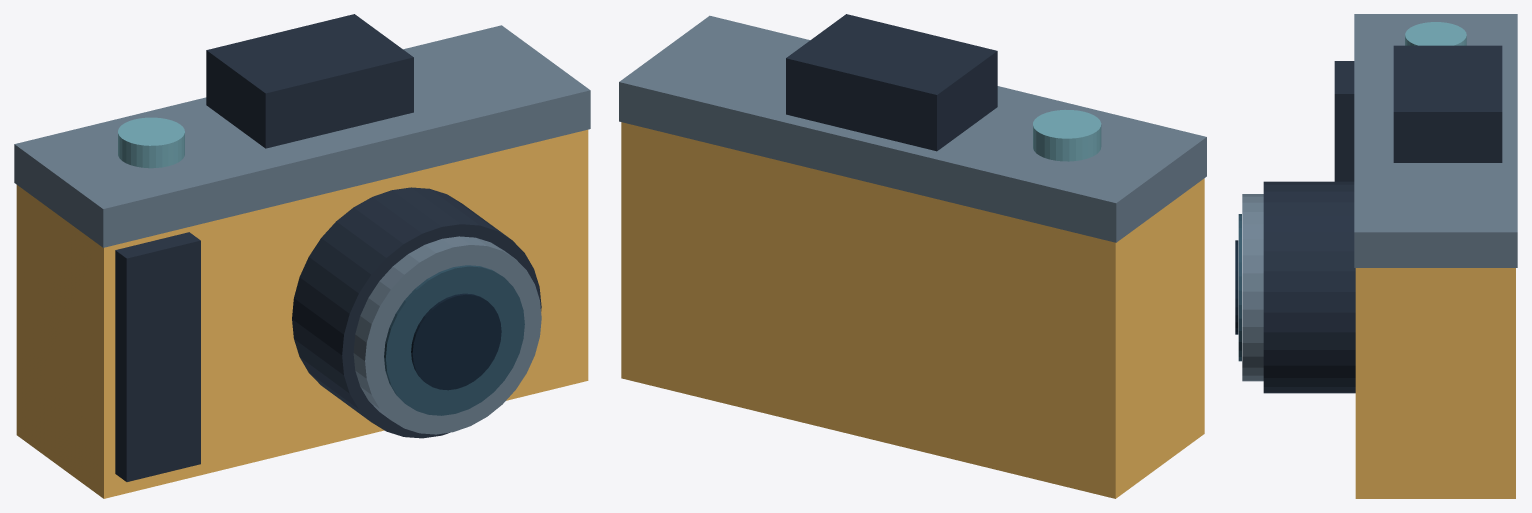
The model's file is camera.glb.
3 views of the same model, side by side, from view 1: azimuth 30°, elevation 25°; view 2: azimuth 150°, elevation 25°; view 3: azimuth 270°, elevation 25° (orthographic). The views are drawn at different scales.
Visible parts, largest first — view 1: body, silver top, viewfinder, grip, lens barrel, lens ring, lens face, inner glass, shutter; view 2: body, silver top, viewfinder, shutter; view 3: body, silver top, lens barrel, viewfinder, lens ring, grip, shutter, lens face, inner glass.
Part boxes in pixels (x1,y1,x2,y2): body: [16, 129, 588, 498]; silver top: [14, 25, 590, 247]; viewfinder: [206, 14, 413, 148]; grip: [115, 232, 200, 481]; lens barrel: [292, 187, 541, 438]; lens ring: [353, 236, 541, 434]; lens face: [384, 265, 524, 415]; inner glass: [411, 293, 501, 390]; shutter: [118, 117, 184, 168]; body: [621, 122, 1204, 498]; silver top: [619, 15, 1206, 242]; viewfinder: [786, 14, 997, 151]; shutter: [1033, 109, 1101, 161]; body: [1355, 268, 1515, 498]; silver top: [1354, 14, 1517, 267]; lens barrel: [1263, 181, 1355, 393]; viewfinder: [1393, 45, 1502, 162]; lens ring: [1242, 194, 1263, 381]; grip: [1334, 61, 1354, 181]; shutter: [1405, 22, 1466, 45]; lens face: [1238, 214, 1241, 361]; inner glass: [1235, 240, 1238, 334].
Bounding box in the file's own units: 1.71 × 1.16 × 0.933.
